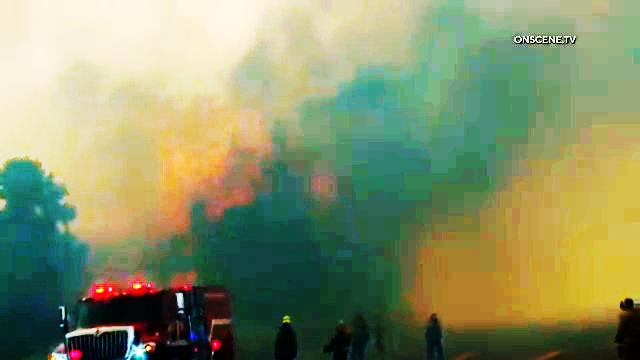smoke: (274, 19, 477, 202)
